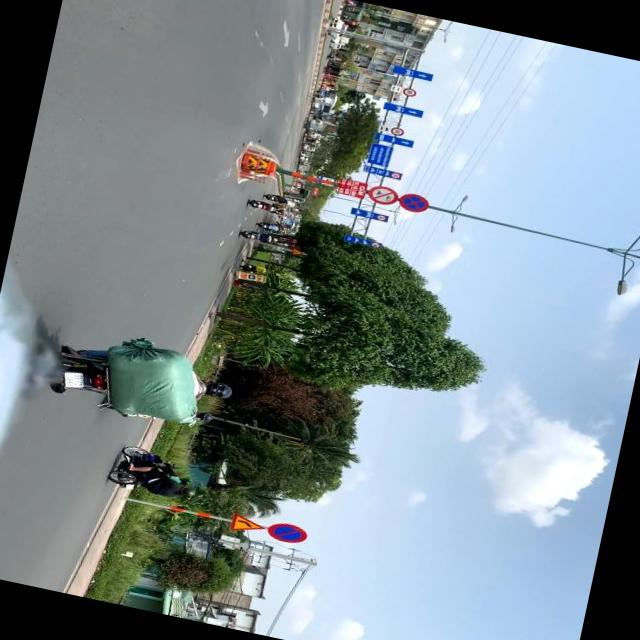P-104: (365, 182, 398, 206)
P-130: (395, 190, 431, 214)
P-131a: (265, 520, 309, 546)
W-201b: (230, 514, 266, 536)
